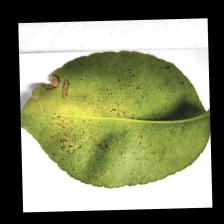canker: (41, 69, 108, 162)
